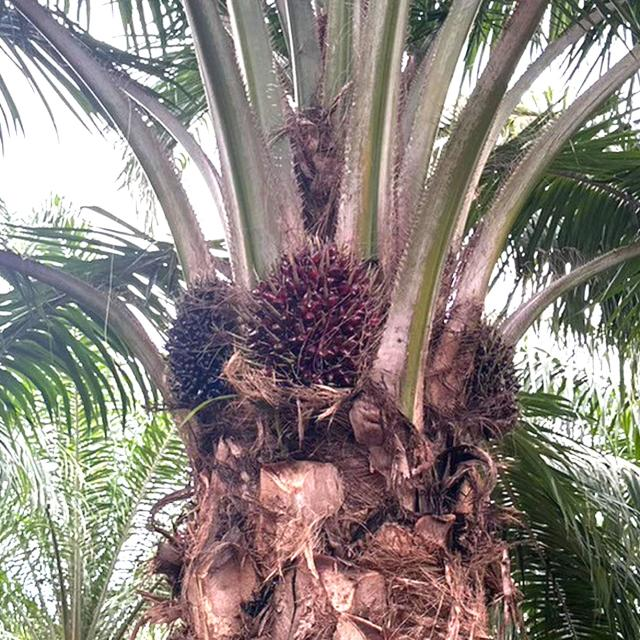ripe: (232, 224, 401, 388)
